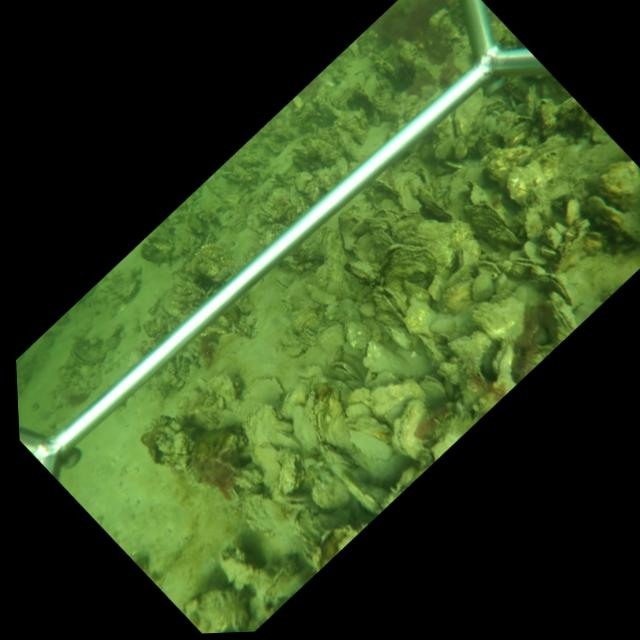Oyster-Closed: (366, 376, 428, 423), (463, 199, 524, 245), (393, 398, 430, 458), (383, 244, 438, 282), (531, 270, 575, 310), (243, 403, 282, 446), (551, 289, 580, 339), (243, 373, 284, 404), (392, 172, 423, 212), (70, 340, 109, 366), (418, 334, 448, 365), (345, 319, 371, 350), (403, 280, 432, 305), (347, 260, 379, 282), (422, 199, 455, 219), (537, 245, 558, 259)
Oyster-Indeterminate: (473, 282, 530, 344), (253, 443, 283, 490), (469, 273, 496, 302), (356, 231, 375, 263), (310, 288, 340, 305)
Oyster-Open: (369, 285, 409, 321), (327, 358, 362, 382)
